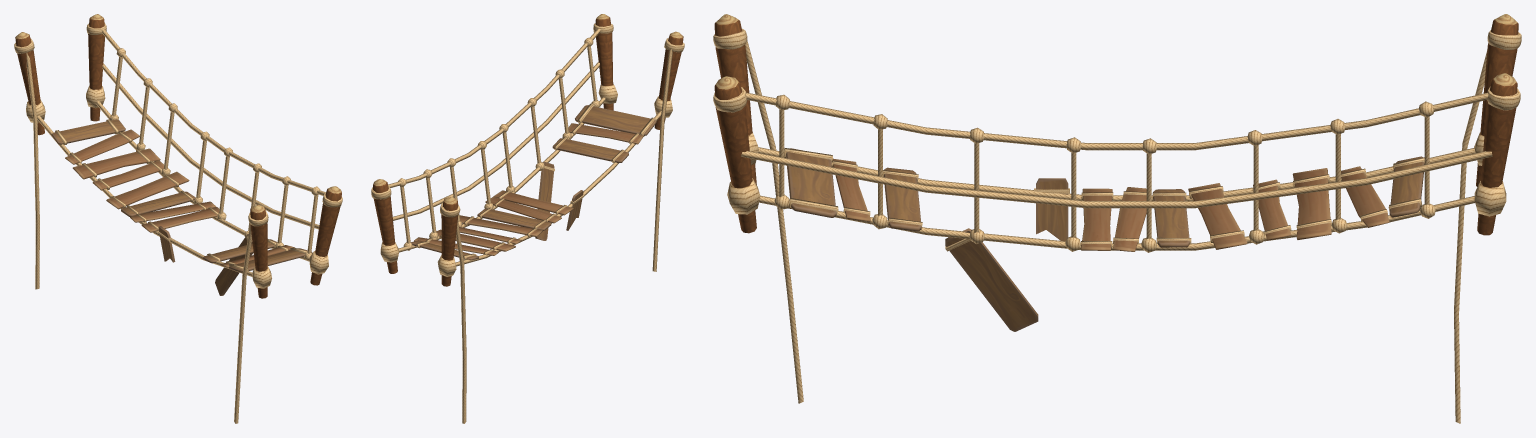
File: Bridge2.fbx
3 views of the same model, side by side, from view 1: azimuth 30°, elevation 25°; view 2: azimuth 150°, elevation 25°; view 3: azimuth 270°, elevation 25° (orthographic). The views are drawn at different scales.
Visible parts, largest first — view 1: polySurface1147; view 2: polySurface1147; view 3: polySurface1147.
Part boxes in pixels (<box>): polySurface1147: <box>14,14,342,423</box>; polySurface1147: <box>371,14,684,423</box>; polySurface1147: <box>713,14,1521,423</box>.
Size of the model in its own units: 24.45 by 62.42 by 112.
